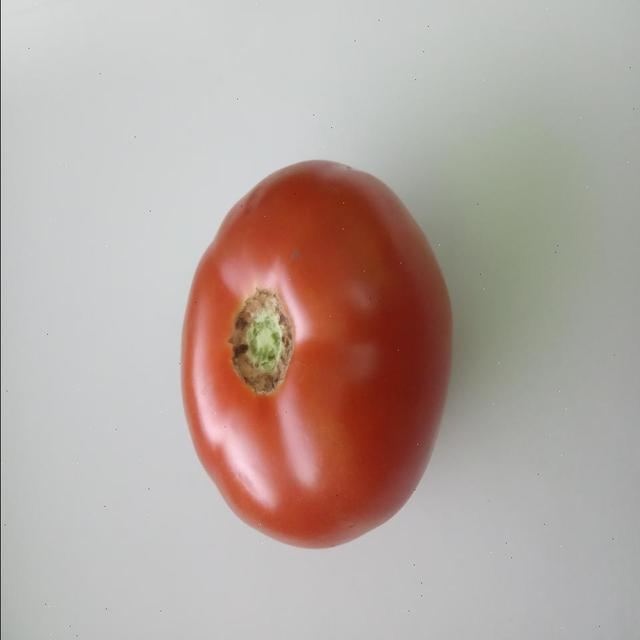Healthy Fruit: (117, 97, 305, 373)
